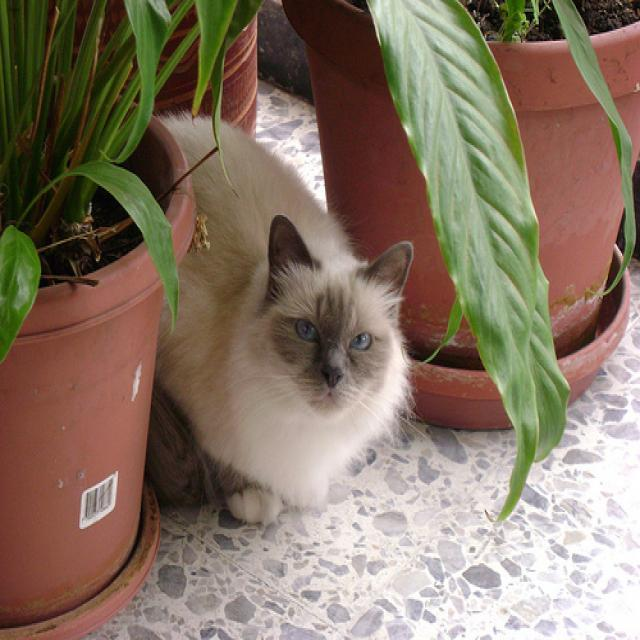Birman: (221, 208, 418, 434)
